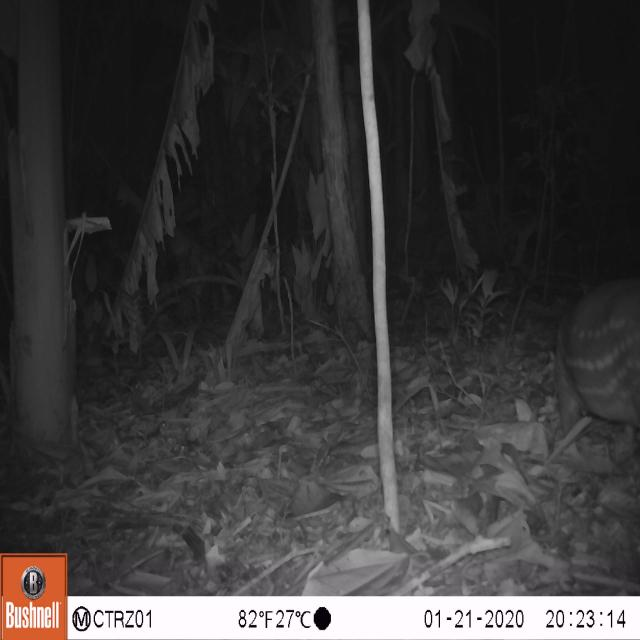Spotted Paca: (536, 262, 639, 498)
